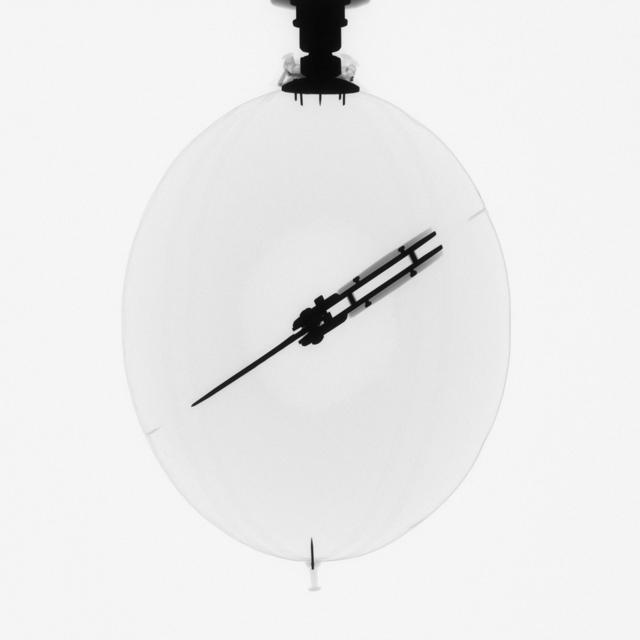knife: (183, 218, 447, 418)
